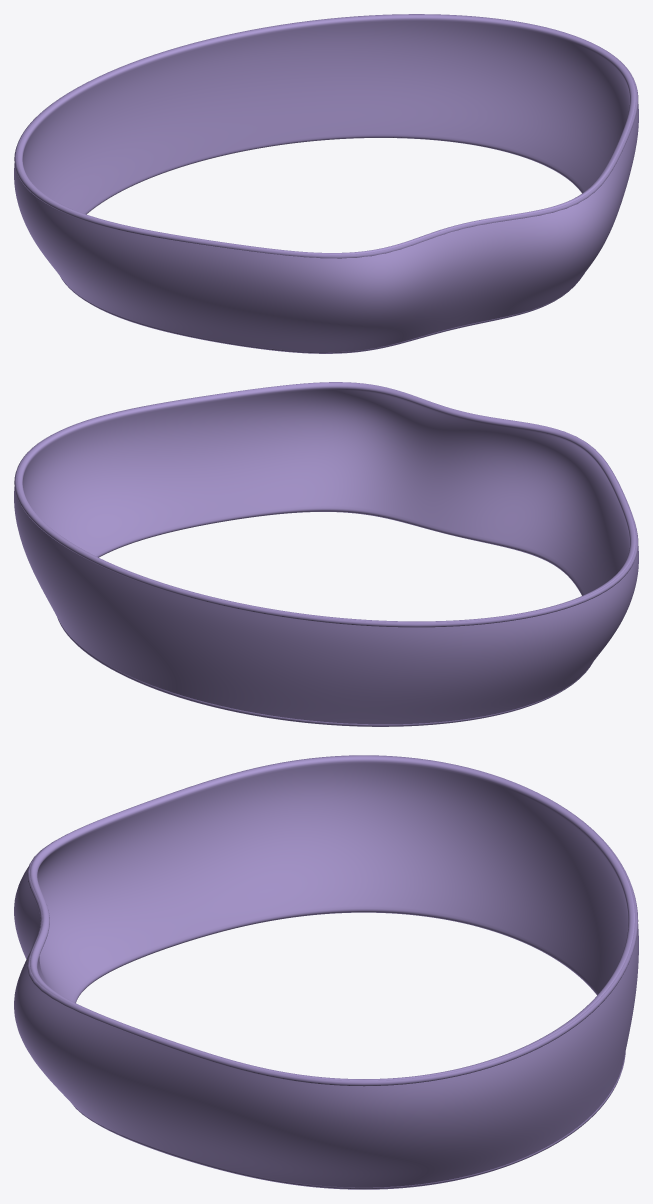
The model's file is Feminine-bandeau-top.glb.
The picture shows the model from 3 angles, top to bottom: view 1: azimuth 30°, elevation 25°; view 2: azimuth 150°, elevation 25°; view 3: azimuth 270°, elevation 25°; orthographic projection. The views are drawn at different scales.
Visible parts, largest first — view 1: Clothing / Bandeau, Bandeau stitched edge.001 export, Bandeau stitched edge export; view 2: Clothing / Bandeau, Bandeau stitched edge.001 export, Bandeau stitched edge export; view 3: Clothing / Bandeau, Bandeau stitched edge.001 export, Bandeau stitched edge export.
Boxes of the visible parts, x1=… form: Clothing / Bandeau: x1=14, y1=14, x2=638, y2=353; Bandeau stitched edge.001 export: x1=14, y1=14, x2=638, y2=258; Bandeau stitched edge export: x1=60, y1=273, x2=584, y2=353; Clothing / Bandeau: x1=14, y1=382, x2=638, y2=724; Bandeau stitched edge.001 export: x1=14, y1=387, x2=638, y2=627; Bandeau stitched edge export: x1=57, y1=617, x2=592, y2=726; Clothing / Bandeau: x1=14, y1=755, x2=638, y2=1189; Bandeau stitched edge.001 export: x1=27, y1=755, x2=638, y2=1086; Bandeau stitched edge export: x1=72, y1=1052, x2=625, y2=1189.
Size of the model in its own units: 0.7043 by 0.1342 by 0.567.
